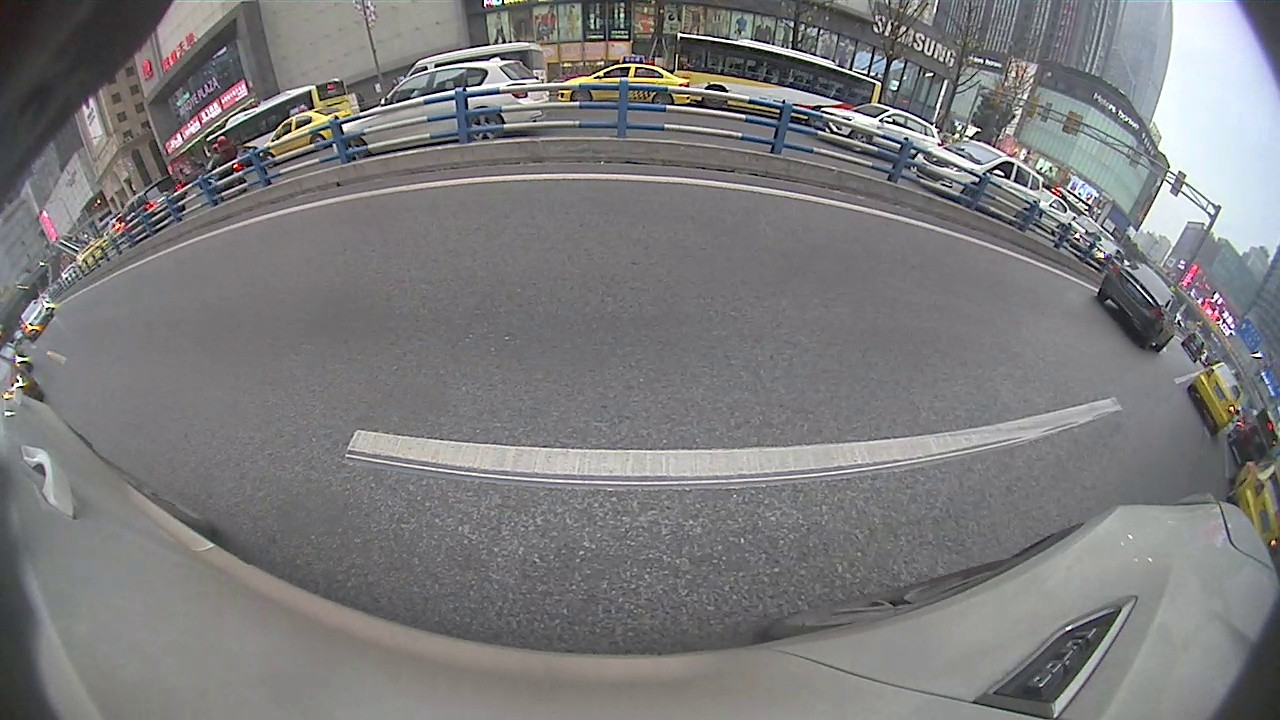bus: (671, 29, 886, 131)
car: (329, 52, 552, 164), (908, 137, 1045, 235), (555, 54, 693, 114), (1095, 260, 1182, 355), (1186, 360, 1246, 438)
front: (342, 134, 368, 160), (703, 84, 728, 110)
rear: (467, 108, 506, 142)
